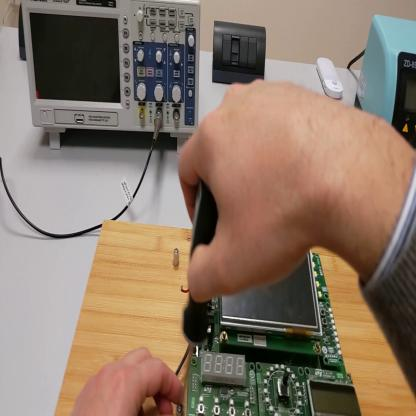hand: (178, 74, 328, 301), (72, 346, 183, 413)
low voltage board: (187, 247, 365, 412)
oscilloscope: (21, 3, 203, 155)
screwdriver-: (174, 178, 221, 404)
socket: (18, 7, 28, 62)
welder station: (353, 12, 416, 151)
working area: (53, 220, 416, 416)
